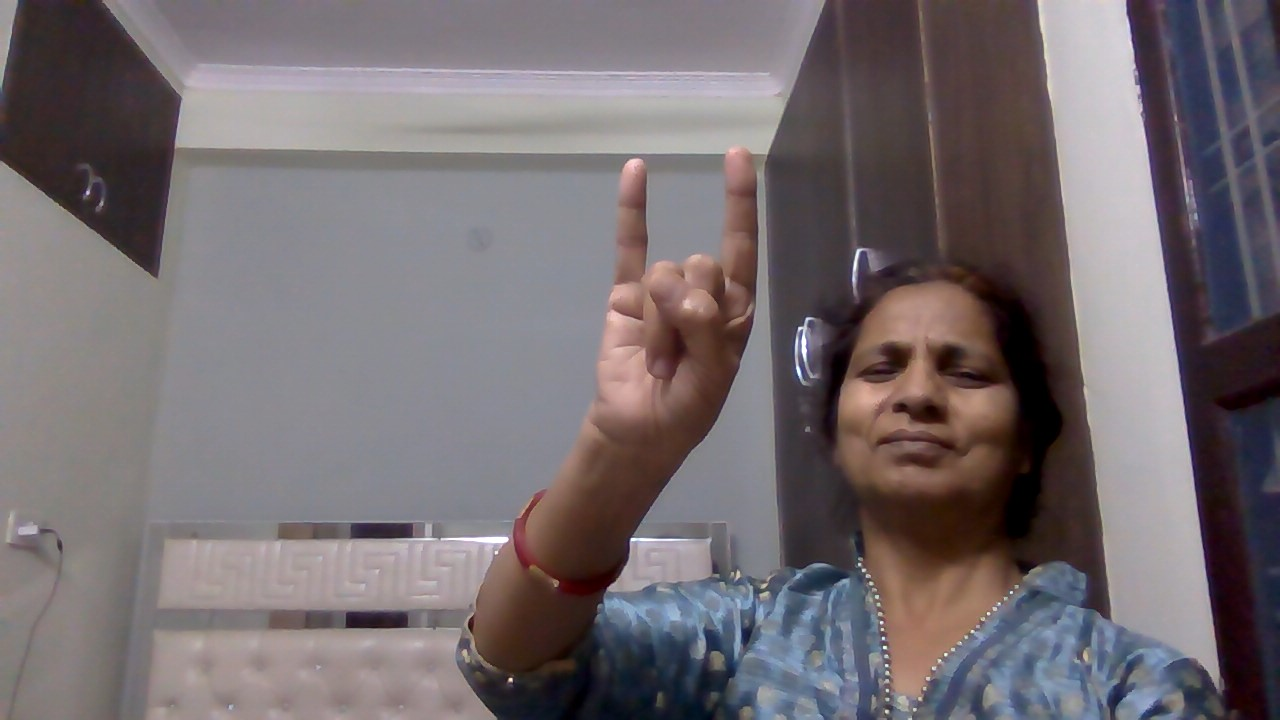Select All: (581, 138, 775, 451)
